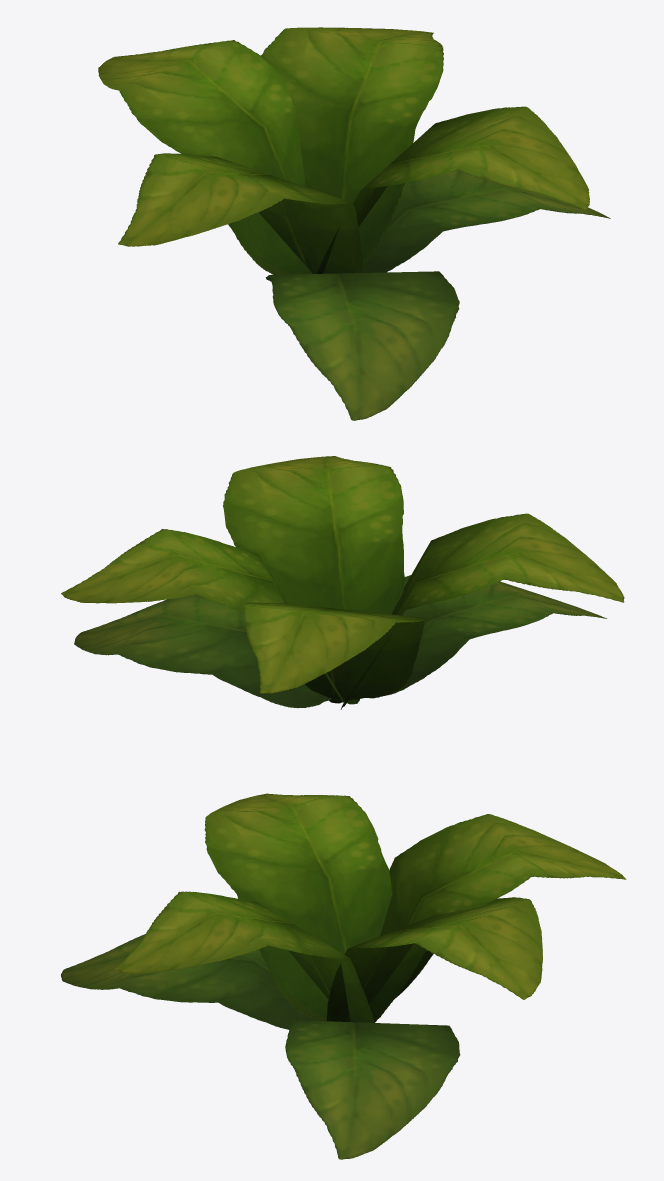
The model's file is plant_yewai_caocong02.FBX.
The picture shows the model from 3 angles, top to bottom: view 1: azimuth 30°, elevation 25°; view 2: azimuth 150°, elevation 25°; view 3: azimuth 270°, elevation 25°; orthographic projection. The views are drawn at different scales.
Parts seen in each view (by area): view 1: plant_yewai_caocong02; view 2: plant_yewai_caocong02; view 3: plant_yewai_caocong02.
Part boxes in pixels (<box>): plant_yewai_caocong02: <box>98,27,610,420</box>; plant_yewai_caocong02: <box>61,456,624,709</box>; plant_yewai_caocong02: <box>61,793,626,1159</box>.
Size of the model in its own units: 4.08 by 1.23 by 4.29.
